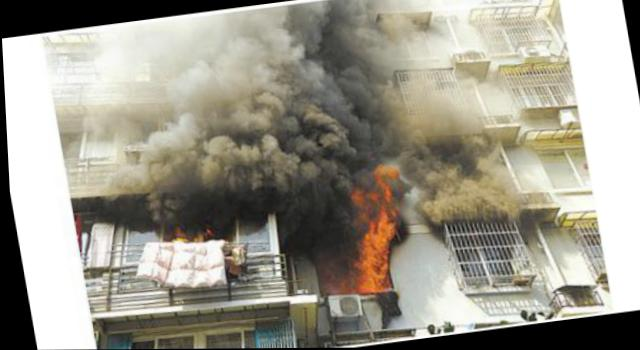fire: (352, 244, 394, 291), (353, 210, 398, 248), (370, 159, 403, 209), (346, 188, 380, 214)
